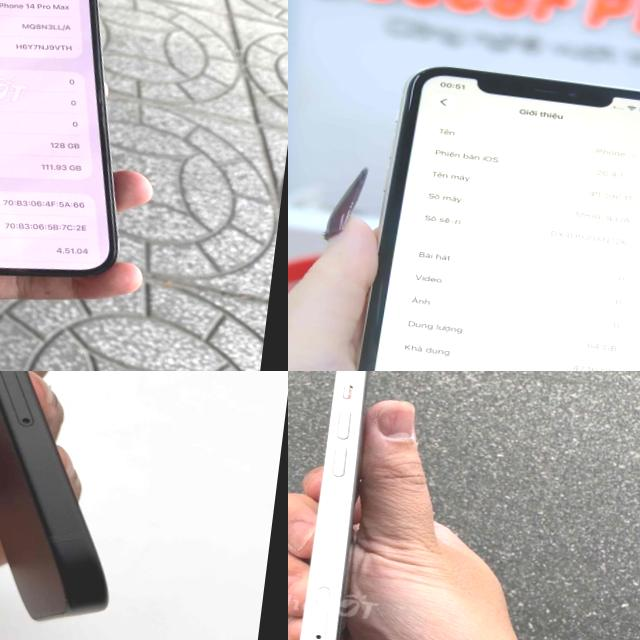gen_11: (352, 55, 640, 371)
gen_12_13: (288, 371, 388, 640)
gen_14: (0, 0, 172, 303)
gen_15: (0, 371, 205, 640)
